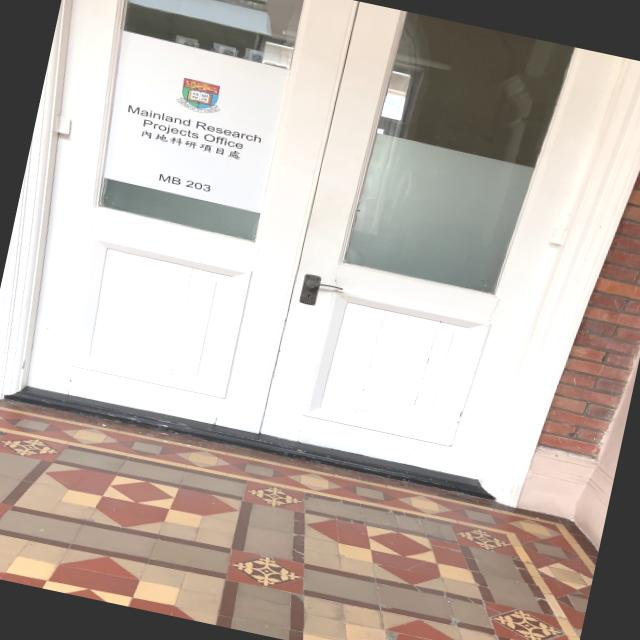room203Window: (146, 162, 221, 200)
